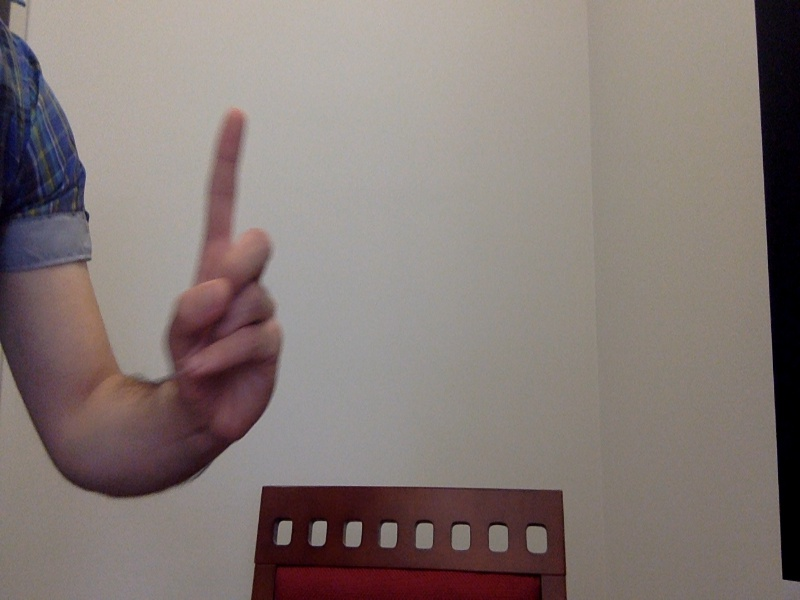1-hand: (172, 108, 302, 452)
